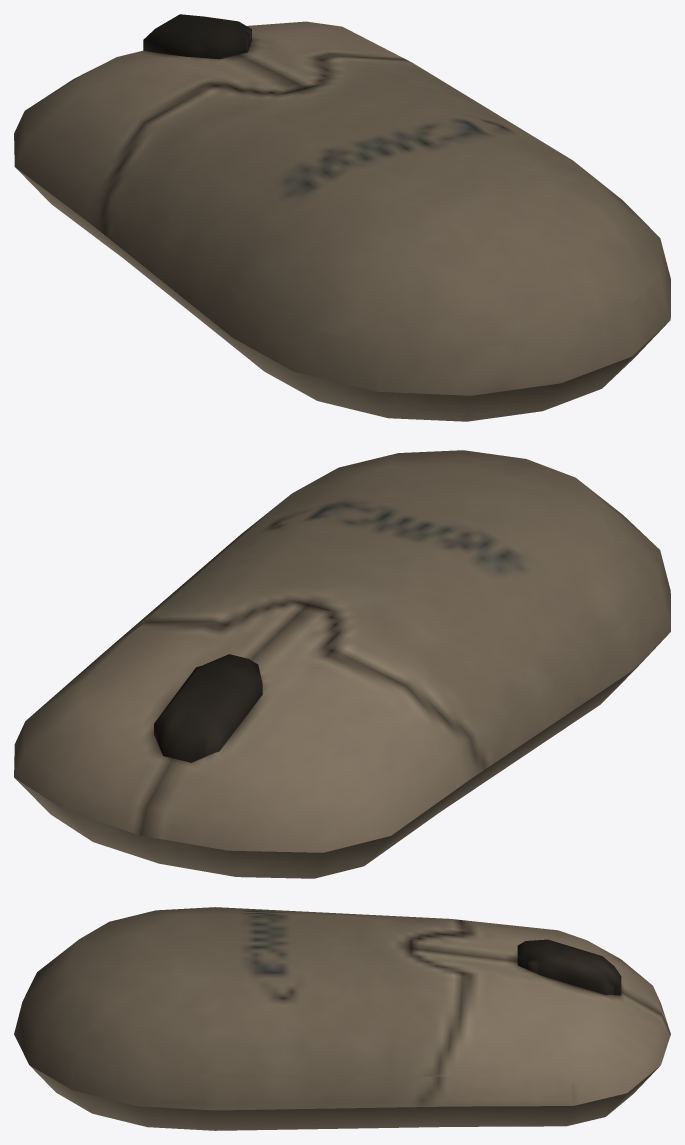
File: pc_mouse_mp_1.fbx
The picture shows the model from 3 angles, top to bottom: view 1: azimuth 30°, elevation 25°; view 2: azimuth 150°, elevation 25°; view 3: azimuth 270°, elevation 25°; orthographic projection. The views are drawn at different scales.
Visible parts, largest first — view 1: pc_mouse_mp_1; view 2: pc_mouse_mp_1; view 3: pc_mouse_mp_1.
Part boxes in pixels (left/top/right/bottom): pc_mouse_mp_1: left=14, top=14, right=670, bottom=421; pc_mouse_mp_1: left=14, top=450, right=670, bottom=878; pc_mouse_mp_1: left=14, top=907, right=670, bottom=1130.
Size of the model in its own units: 0.0809 by 0.1475 by 0.0315.
